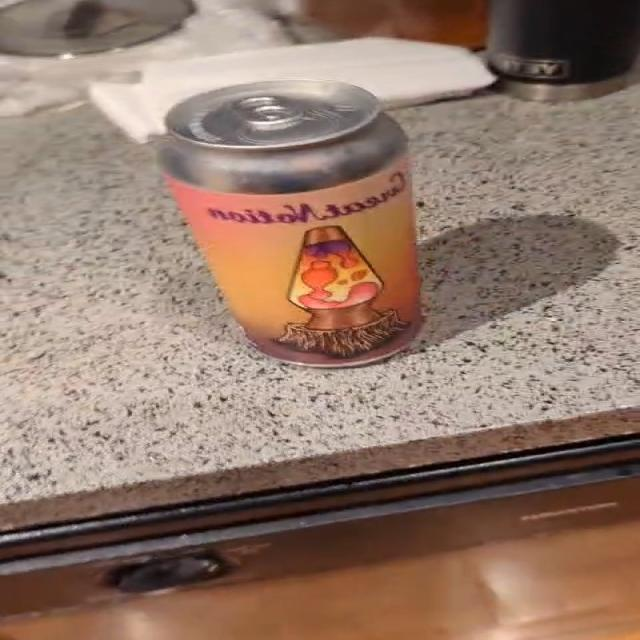metal: (157, 80, 422, 368)
